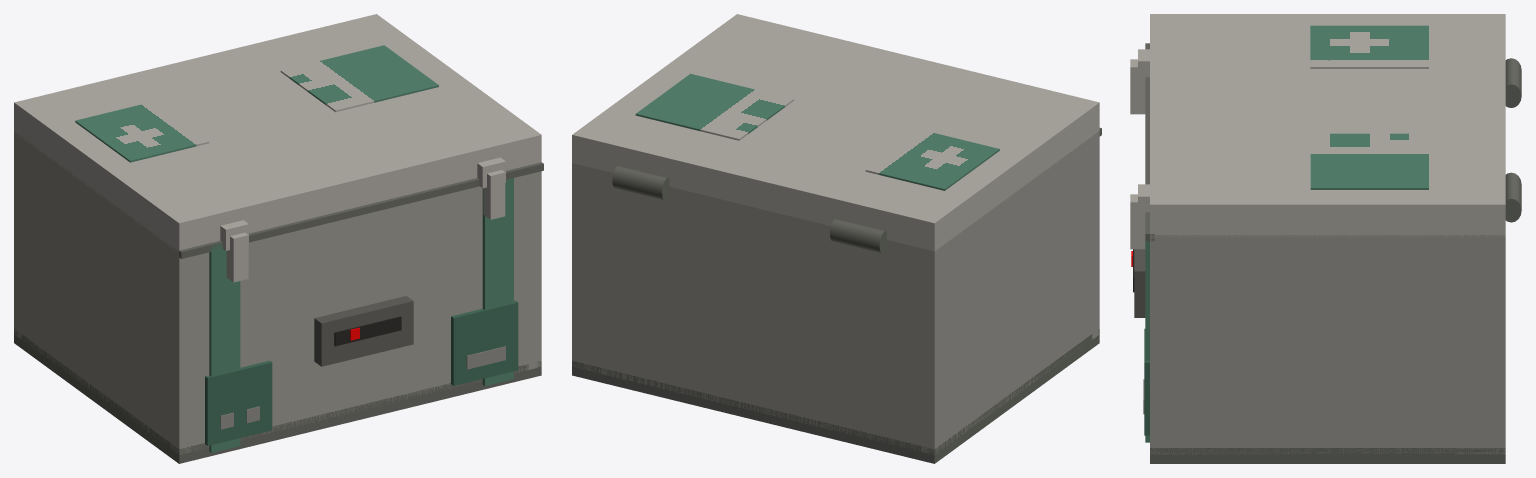
File: CMU3DInheritedCratesSecureMedicalCloud.glb
The picture shows the model from 3 angles, left to right: view 1: azimuth 30°, elevation 25°; view 2: azimuth 150°, elevation 25°; view 3: azimuth 270°, elevation 25°; orthographic projection. The views are drawn at different scales.
Visible parts, largest first — view 1: separate solid closed lid, front structural wall, side structural wall -1, bottom structural pan, original surgical lid field markings, original medical-cross lid label, source lower green left field, source lower green right field, inset lock housing, green front restraint -0.33, green front restraint 0.33, front lid gasket (+6 smaller); view 2: rear structural wall, separate solid closed lid, side structural wall -1, bottom structural pan, original surgical lid field markings, original medical-cross lid label, front structural wall, rear lid hinge 0.2625, side structural wall 1, rear lid hinge -0.2625; view 3: side structural wall 1, separate solid closed lid, original surgical lid field markings, bottom structural pan, original medical-cross lid label, front structural wall, rear structural wall, inset lock housing, rear lid hinge -0.2625, rear lid hinge 0.2625, front lid gasket, latch tongue -0.31 (+5 smaller).
Part boxes in pixels (left/top/right/bottom): separate solid closed lid: left=14, top=14, right=541, bottom=252; front structural wall: left=171, top=171, right=541, bottom=454; side structural wall -1: left=14, top=131, right=192, bottom=453; bottom structural pan: left=14, top=328, right=541, bottom=463; original surgical lid field markings: left=280, top=45, right=438, bottom=112; original medical-cross lid label: left=75, top=101, right=209, bottom=162; source lower green left field: left=205, top=360, right=272, bottom=445; source lower green right field: left=451, top=300, right=518, bottom=385; inset lock housing: left=314, top=296, right=413, bottom=366; green front restraint -0.33: left=209, top=243, right=240, bottom=452; green front restraint 0.33: left=482, top=178, right=513, bottom=385; front lid gasket: left=177, top=162, right=543, bottom=258; rear structural wall: left=572, top=163, right=941, bottom=455; separate solid closed lid: left=572, top=14, right=1099, bottom=251; side structural wall -1: left=921, top=136, right=1099, bottom=453; bottom structural pan: left=572, top=329, right=1099, bottom=463; original surgical lid field markings: left=635, top=73, right=793, bottom=140; original medical-cross lid label: left=865, top=130, right=999, bottom=190; front structural wall: left=1092, top=131, right=1099, bottom=339; rear lid hinge 0.2625: left=612, top=165, right=669, bottom=200; side structural wall 1: left=572, top=163, right=585, bottom=359; rear lid hinge -0.2625: left=830, top=219, right=886, bottom=253; side structural wall 1: left=1150, top=235, right=1505, bottom=454; separate solid closed lid: left=1150, top=14, right=1505, bottom=237; original surgical lid field markings: left=1310, top=133, right=1428, bottom=189; bottom structural pan: left=1150, top=448, right=1505, bottom=463; original medical-cross lid label: left=1310, top=25, right=1428, bottom=68; front structural wall: left=1150, top=235, right=1165, bottom=454; rear structural wall: left=1490, top=235, right=1505, bottom=453; inset lock housing: left=1134, top=249, right=1145, bottom=317; rear lid hinge -0.2625: left=1505, top=58, right=1521, bottom=107; rear lid hinge 0.2625: left=1505, top=172, right=1521, bottom=222; front lid gasket: left=1145, top=43, right=1154, bottom=241; latch tongue -0.31: left=1130, top=59, right=1145, bottom=114.
Bounding box in the file's own units: 0.875 × 0.559 × 0.759.
Materials: 11 (2 with a texture image).
